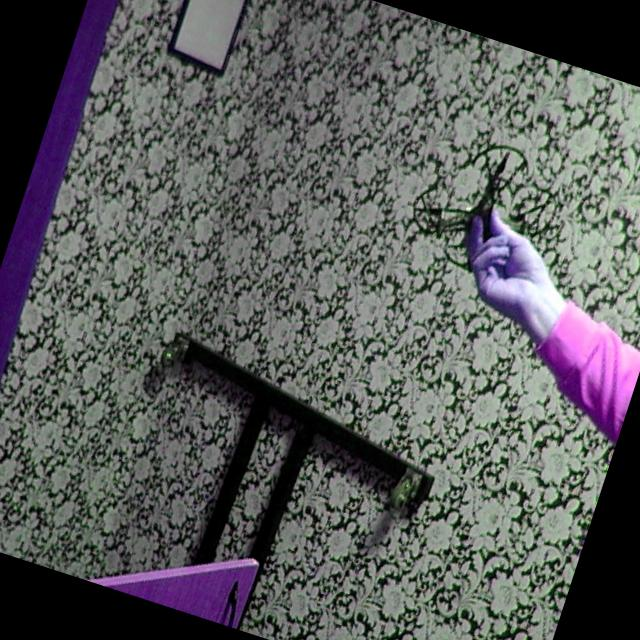drone: (391, 116, 585, 306)
